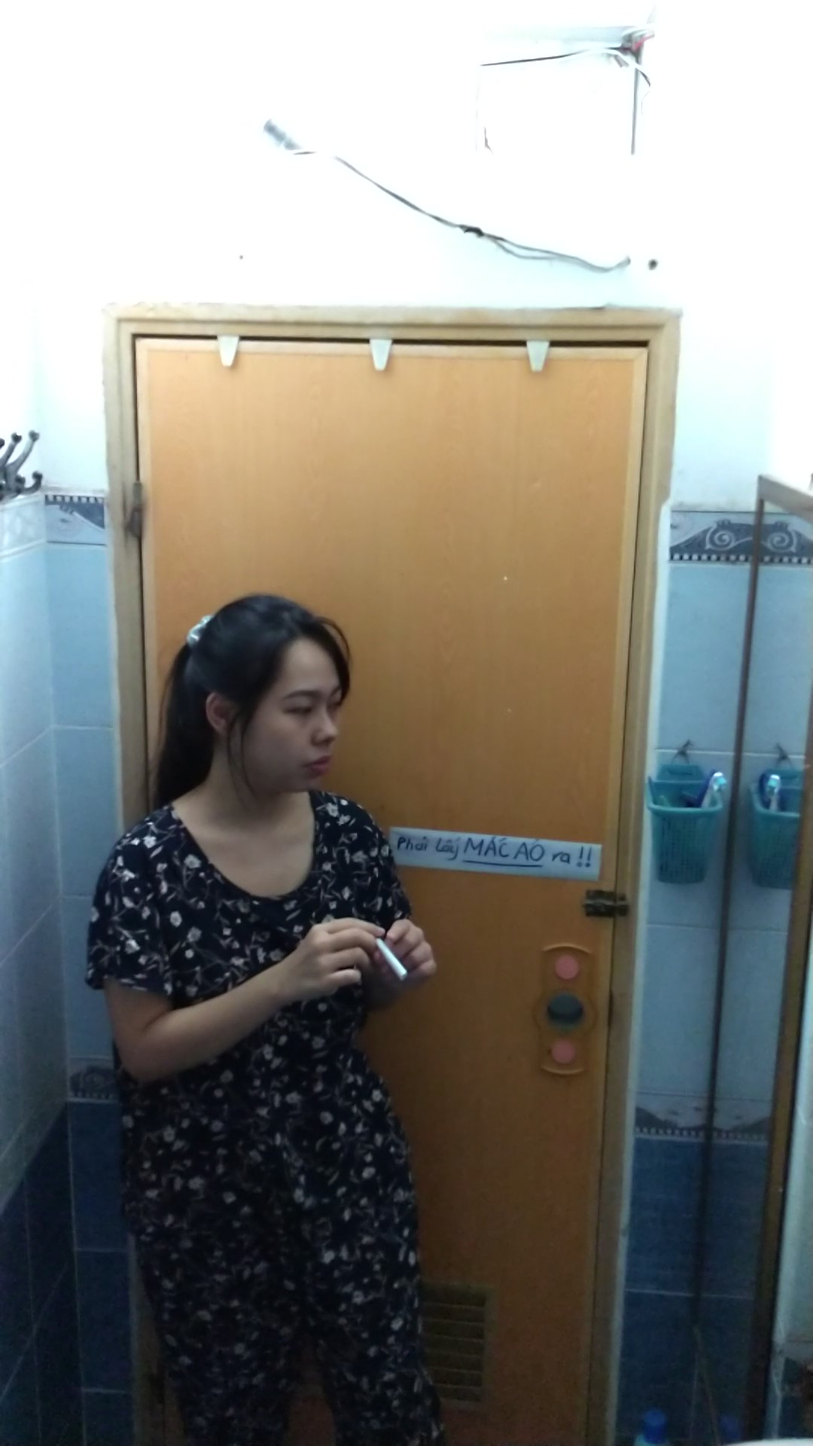cigarette: (376, 936, 410, 987)
person: (87, 589, 452, 1446)
